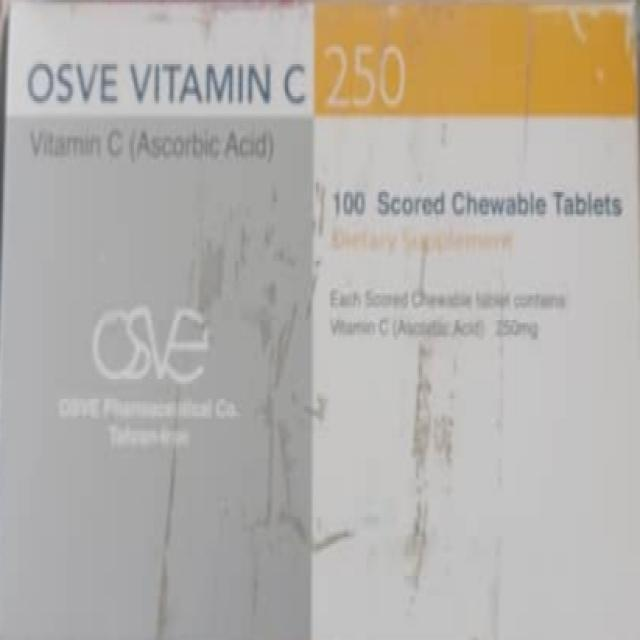drug-name: (26, 57, 317, 105)
